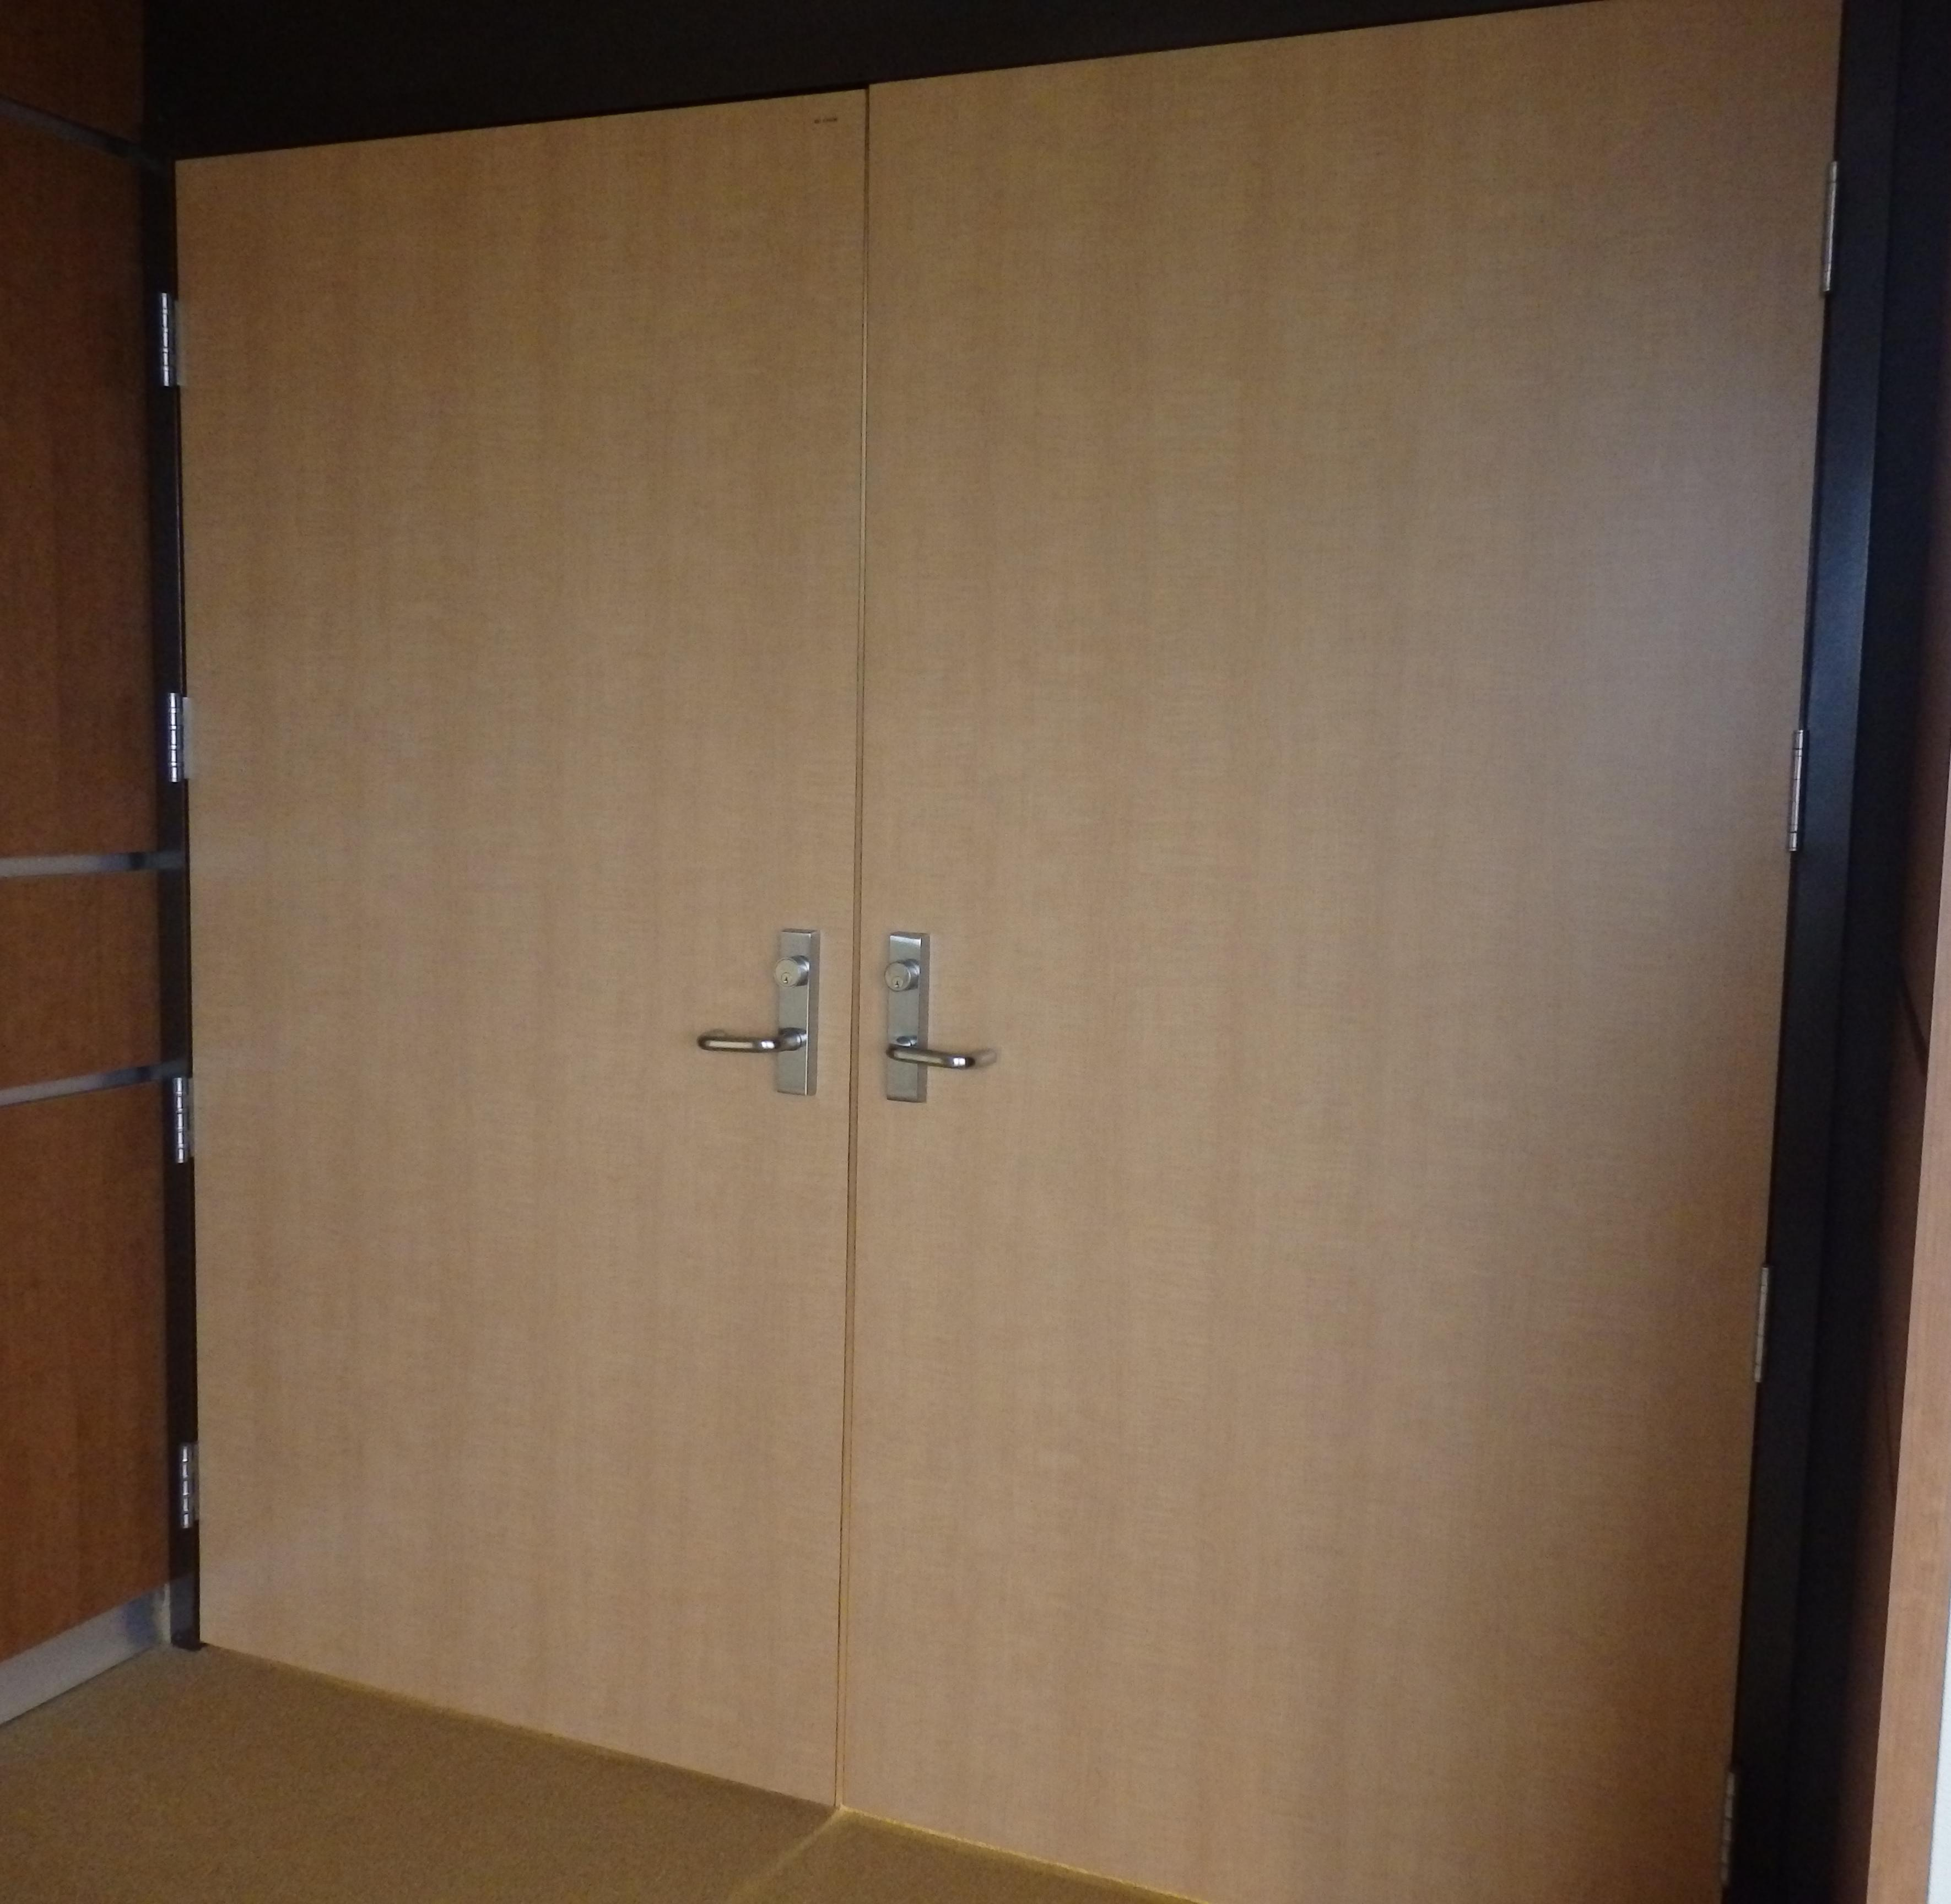door: (188, 54, 1822, 1853)
